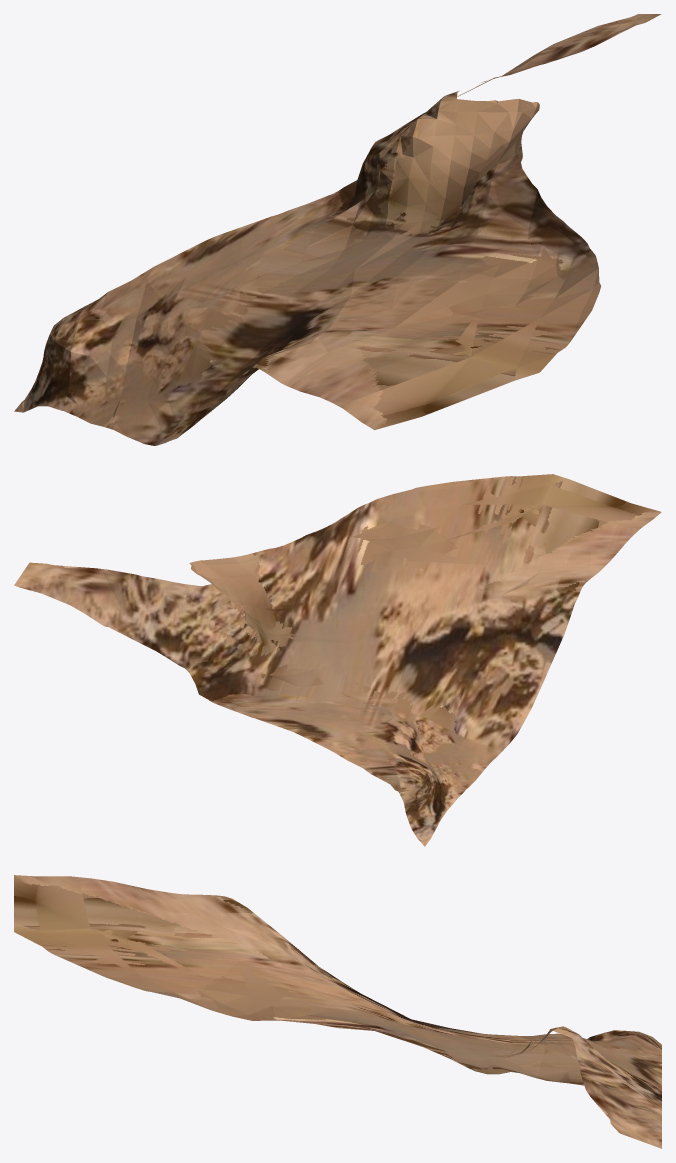
3 renders of one model, top to bottom at view 1: azimuth 30°, elevation 25°; view 2: azimuth 150°, elevation 25°; view 3: azimuth 270°, elevation 25°, orthographic. The views are drawn at different scales.
Size of the model in its own units: 1.04 by 0.4195 by 1.04.
2 materials, 2 textured.
